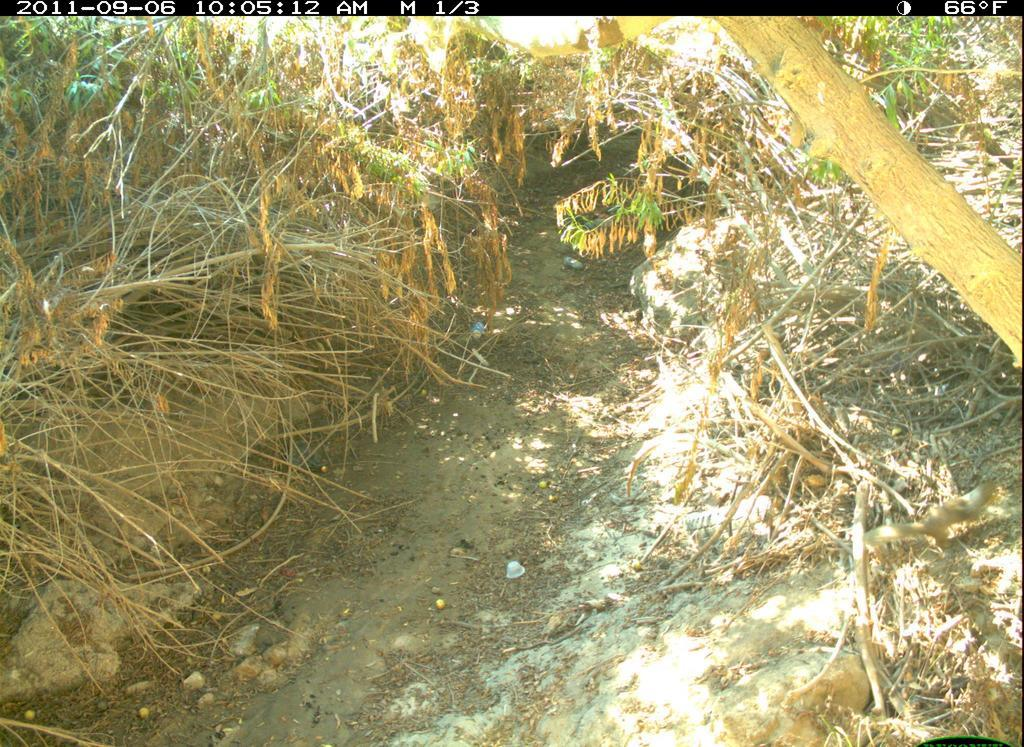squirrel: (859, 477, 1005, 560)
